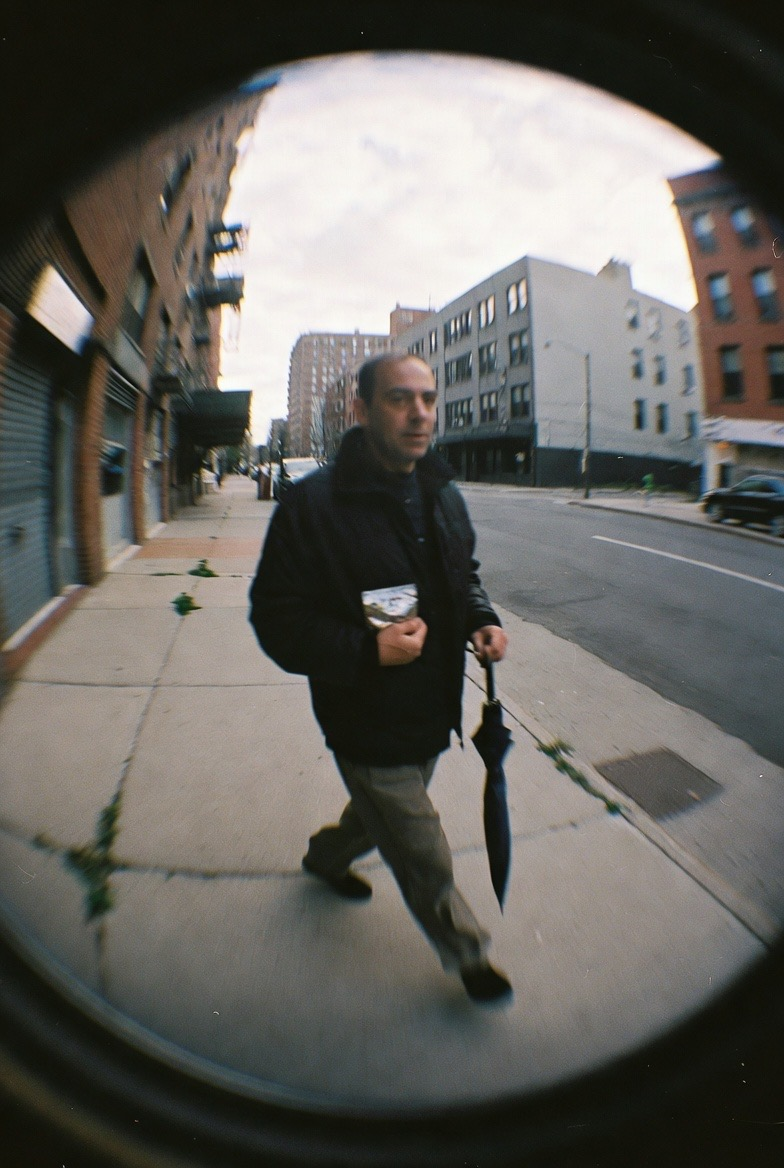person: (248, 351, 514, 1002)
umbrella: (470, 645, 515, 916)
